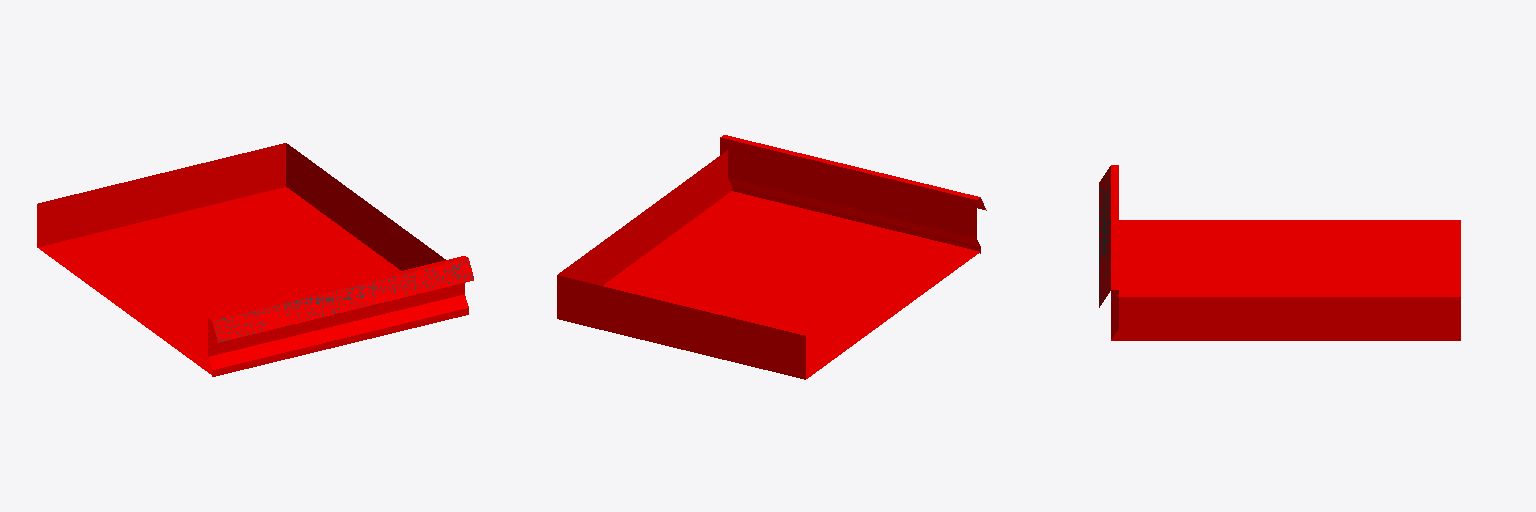
The model's file is original-17.obj.
3 renders of one model, left to right at view 1: azimuth 30°, elevation 25°; view 2: azimuth 150°, elevation 25°; view 3: azimuth 270°, elevation 25°, orthographic.
Parts seen in each view (by area): view 1: Component_4_1/Component_4/mesh13/mesh13-geometry#mesh13-geometry; view 2: Component_4_1/Component_4/mesh13/mesh13-geometry#mesh13-geometry; view 3: Component_4_1/Component_4/mesh13/mesh13-geometry#mesh13-geometry.
Boxes of the visible parts, <box> form: Component_4_1/Component_4/mesh13/mesh13-geometry#mesh13-geometry: <box>37,143,473,376</box>; Component_4_1/Component_4/mesh13/mesh13-geometry#mesh13-geometry: <box>557,135,986,379</box>; Component_4_1/Component_4/mesh13/mesh13-geometry#mesh13-geometry: <box>1099,165,1460,340</box>.
Size of the model in its own units: 0.4189 by 0.0879 by 0.5109.